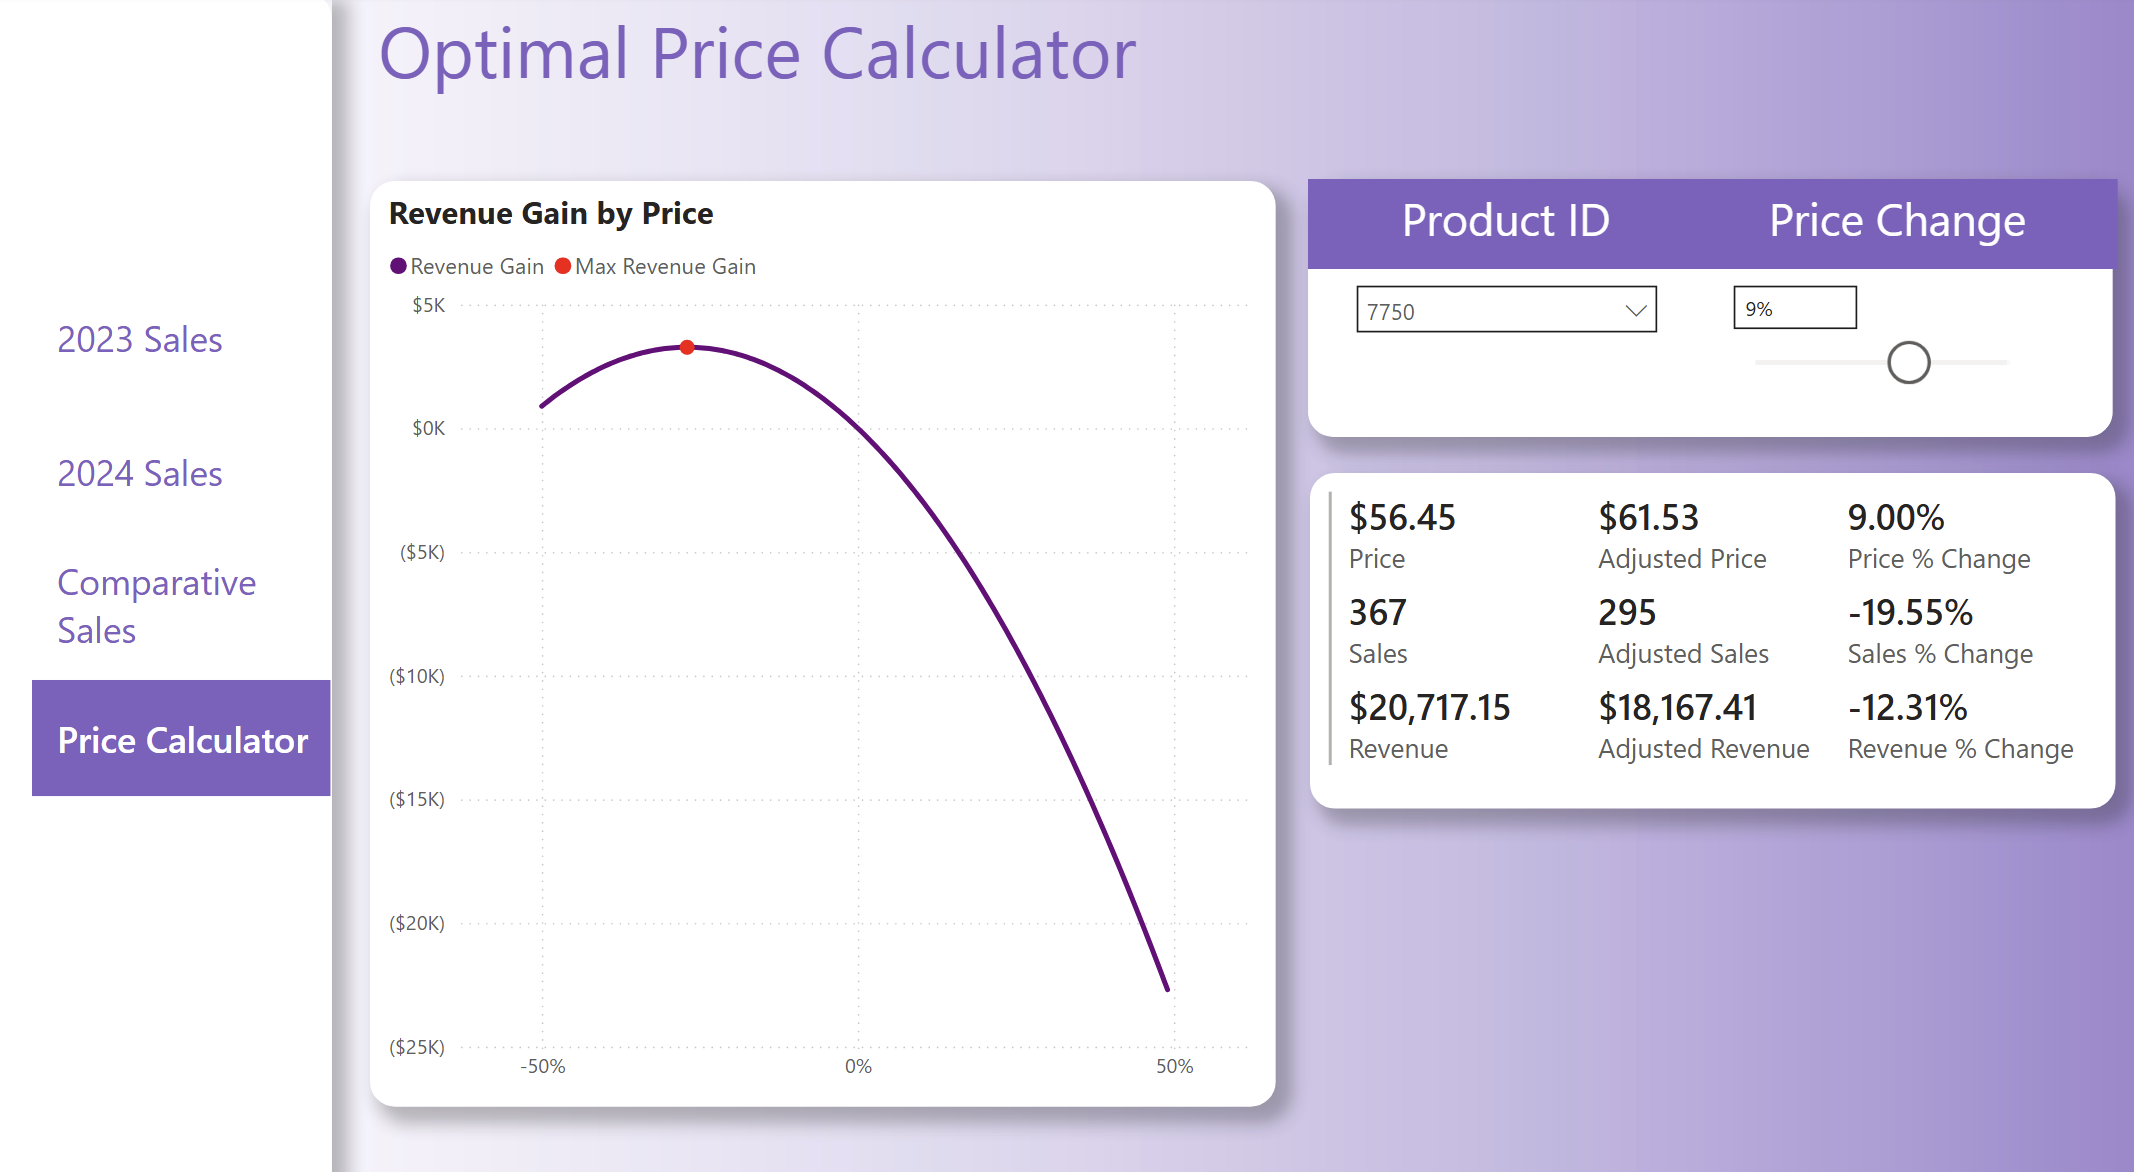

This screenshot's page, from the dashboard's own definition file:
{"tool":"powerbi","page":{"name":"Price Calculator","canvas":[1280,720],"ordinal":3},"visuals":[{"type":"shape","box":[785.2,111.6,482,154.5],"z":0},{"type":"shape","box":[0,0,89.9,720.3],"z":1000},{"type":"shape","box":[0,0,200,720.3],"z":2000},{"type":"pageNavigator","box":[20.3,170.9,179.7,310.1],"z":3000},{"type":"textbox","box":[222.9,0,562.6,82.3],"z":4000},{"type":"slicer","fields":{"Values":["product_elasticity.ProductID"]},"box":[803.8,165.9,200.2,100.1],"z":5000},{"type":"lineChart","title":"Revenue Gain by Price","fields":{"Category":["Price Change Display.Price Change Display"],"Y":["Price Change Display.Revenue Gain Display","Price Change Display.Max Revenue Gain"]},"box":[222.9,112.1,542.4,554.3],"z":6000},{"type":"slicer","fields":{"Values":["Price Change.Price Change"]},"box":[1026.9,165.9,200.2,100.1],"z":7000},{"type":"multiRowCard","fields":{"Values":["forecast_input.Price Per Ticket","forecast_input.Adjusted Ticket Price","forecast_input.Ticket Price % Change","forecast_input.Tickets Sold Current Period hist","forecast_input.New Quantity hist","forecast_input.Tickets Sold % Change","forecast_input.GrossRevenue","Price Change.Adjusted Revenue","forecast_input.Revenue % Change"]},"box":[785.9,287.4,482.4,200.9],"z":8000},{"type":"shape","box":[784.7,111.4,485.2,53.9],"z":9000},{"type":"textbox","box":[814,111.9,179.5,54.1],"z":10000},{"type":"textbox","box":[1037.8,111.9,200.4,54.1],"z":11000},{"type":"textbox","box":[785.9,501.4,482.4,165.7],"z":12000}]}

Visuals, with their boxes in screenshot pixels (x1, y1, x2, y2), scaled from the page's 1280x720 canvas onto the 2134x1172 screenshot:
shape: (x1=1309, y1=182, x2=2113, y2=433)
shape: (x1=0, y1=0, x2=150, y2=1171)
shape: (x1=0, y1=0, x2=333, y2=1171)
pageNavigator: (x1=34, y1=278, x2=333, y2=783)
textbox: (x1=372, y1=0, x2=1310, y2=134)
slicer - product_elasticity.ProductID: (x1=1340, y1=270, x2=1674, y2=433)
"Revenue Gain by Price" lineChart: (x1=372, y1=182, x2=1276, y2=1085)
slicer - Price Change.Price Change: (x1=1712, y1=270, x2=2046, y2=433)
multiRowCard - forecast_input.Price Per Ticket x forecast_input.Adjusted Ticket Price: (x1=1310, y1=468, x2=2114, y2=795)
shape: (x1=1308, y1=181, x2=2117, y2=269)
textbox: (x1=1357, y1=182, x2=1656, y2=270)
textbox: (x1=1730, y1=182, x2=2064, y2=270)
textbox: (x1=1310, y1=816, x2=2114, y2=1086)
